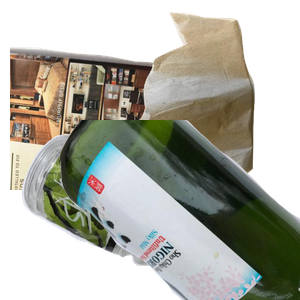glass: (60, 120, 300, 300)
paper: (10, 44, 232, 224)
plastic: (19, 132, 242, 300)
trash: (114, 10, 300, 189)
